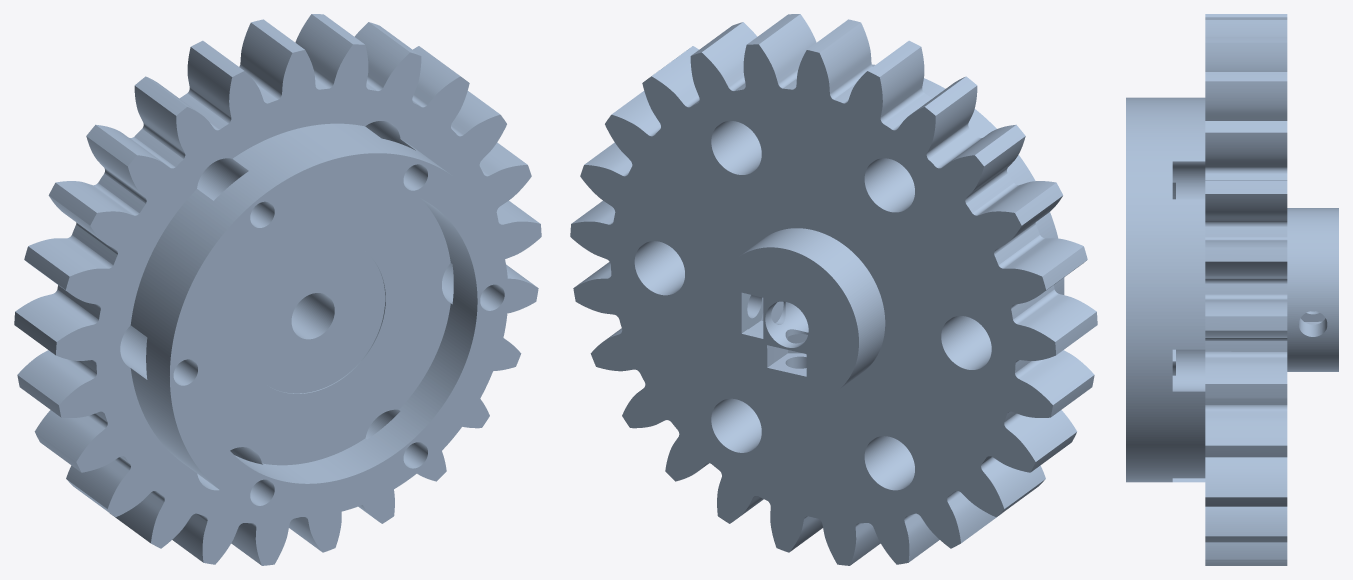
Rendered from zupcanik2.obj.
The picture shows the model from 3 angles, left to right: view 1: azimuth 30°, elevation 25°; view 2: azimuth 150°, elevation 25°; view 3: azimuth 270°, elevation 25°; orthographic projection.
Parts seen in each view (by area): view 1: zupcanik2; view 2: zupcanik2; view 3: zupcanik2.
Boxes of the visible parts, x1,y1,x2,y2 form: zupcanik2: (14,14,541,565); zupcanik2: (570,14,1097,565); zupcanik2: (1126,14,1338,565).
Bounding box in the file's own units: 67.42 × 67.3 × 26.
